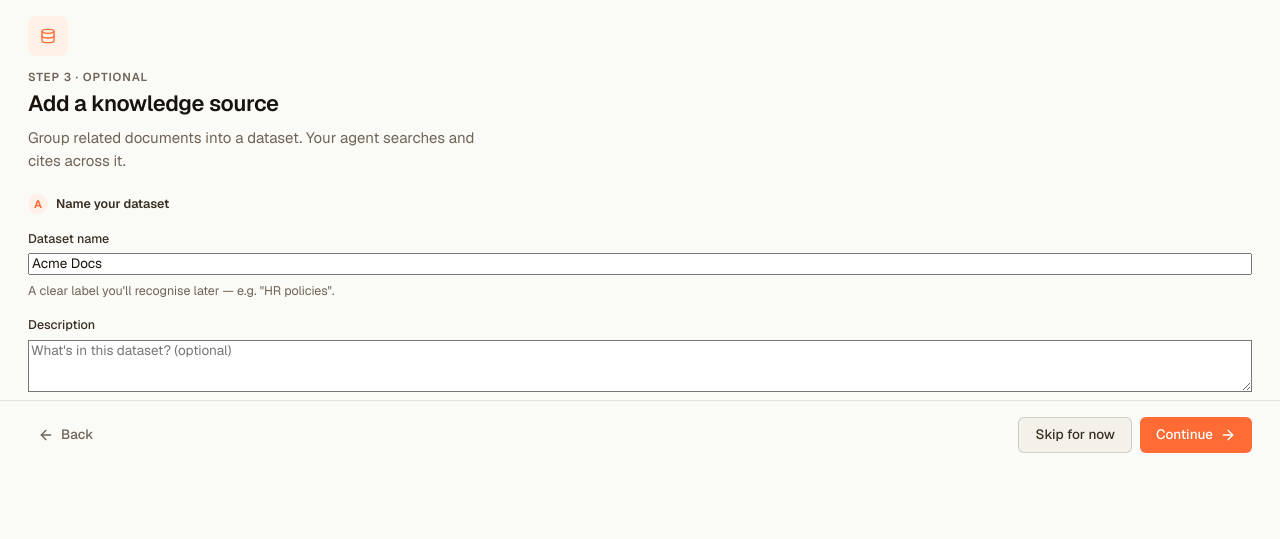
Test: OnboardingSource — name phase › Continue button is enabled and advances to files phase when datasetName is set
Click the button with class "ob-btn-primary". click: [1196, 435]
box: x1=1140 y1=417 x2=1252 y2=453
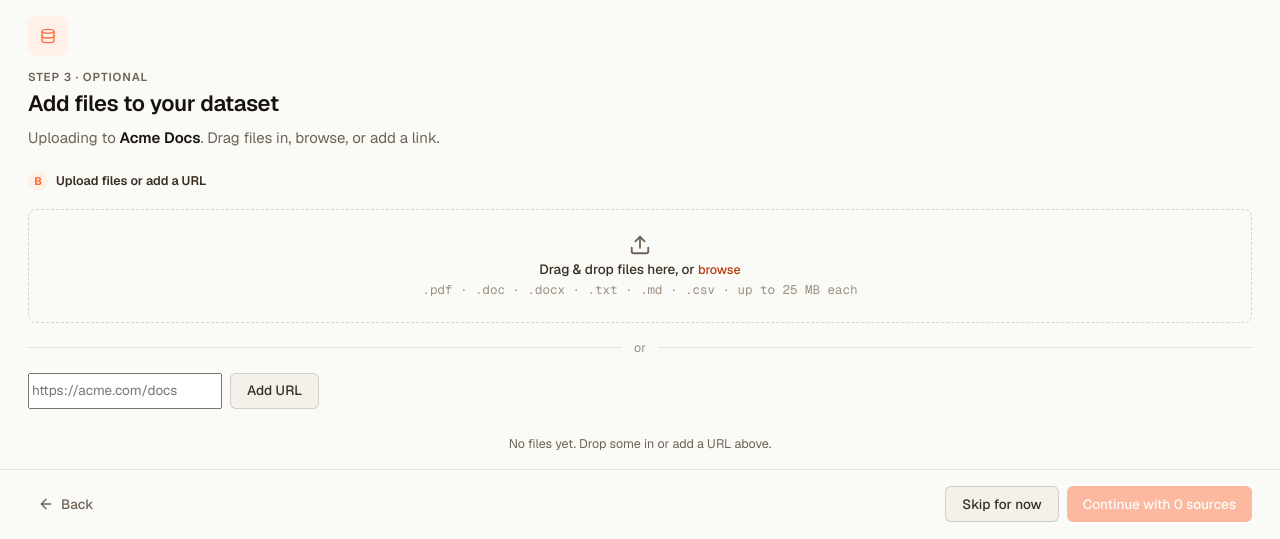
Now the heading with class "ob-title" reads "Add files to your dataset", box x1=28 y1=89 x2=279 y2=117
